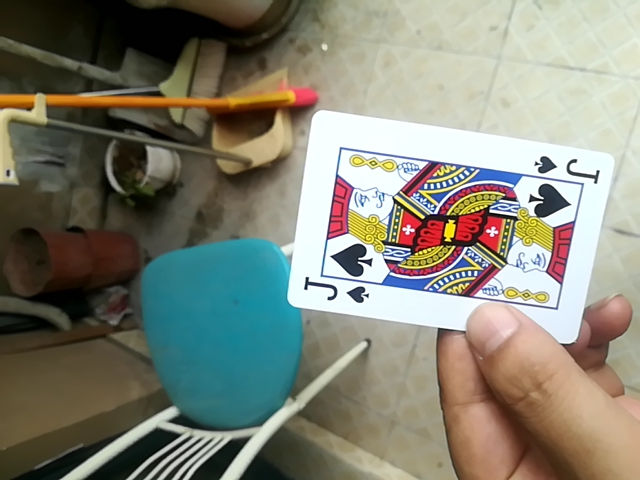ht j: (285, 110, 621, 342)
